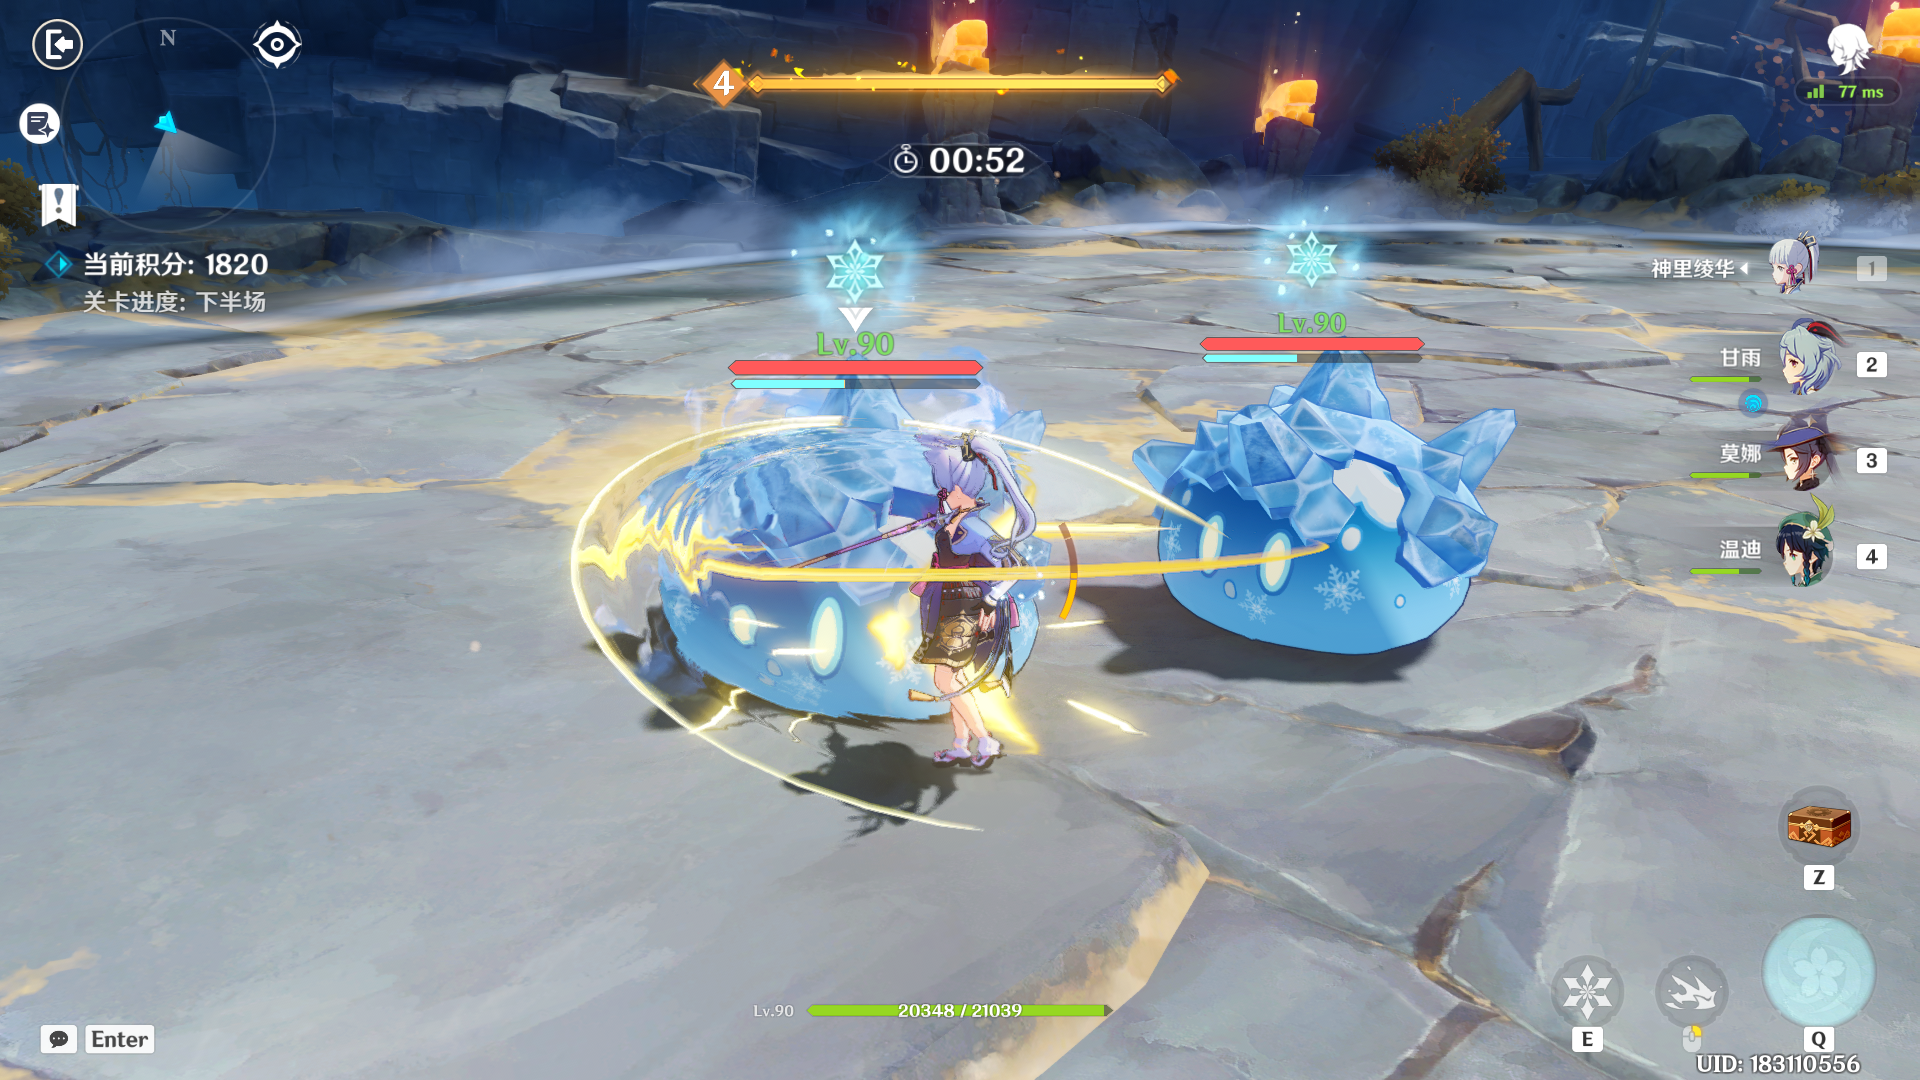character: (1127, 352, 1505, 709), (626, 404, 1058, 716), (870, 419, 1095, 814)
